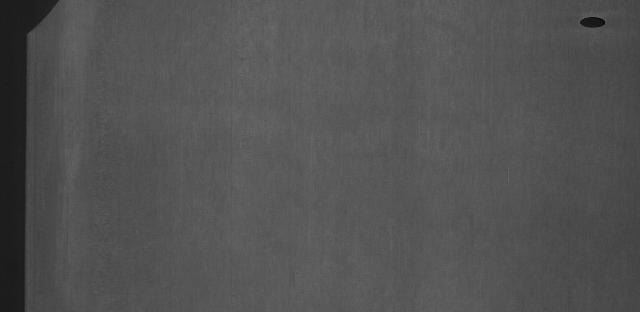punching_hole: (577, 12, 610, 32)
